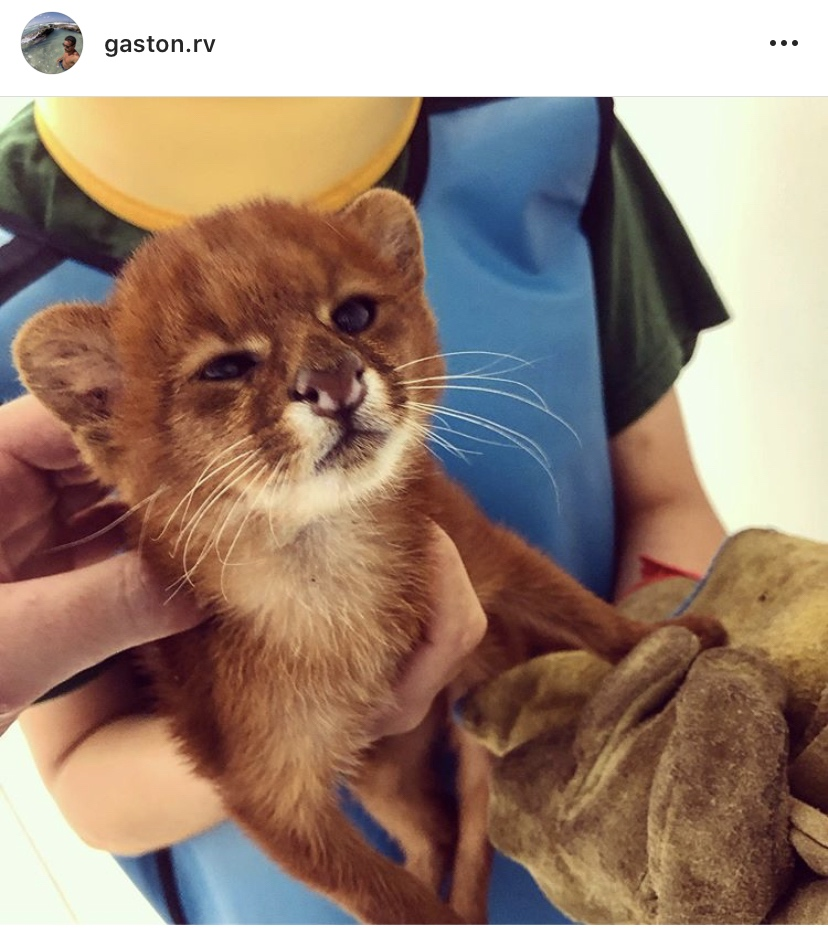Jaguarundi: (13, 186, 597, 822)
